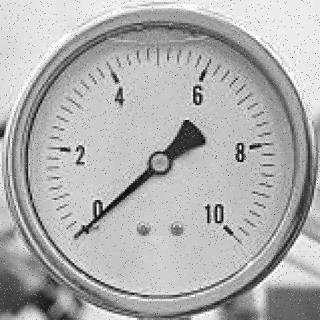gauge: (0, 0, 320, 320), (200, 201, 245, 253), (65, 197, 110, 247), (145, 150, 173, 178), (70, 226, 88, 244)
